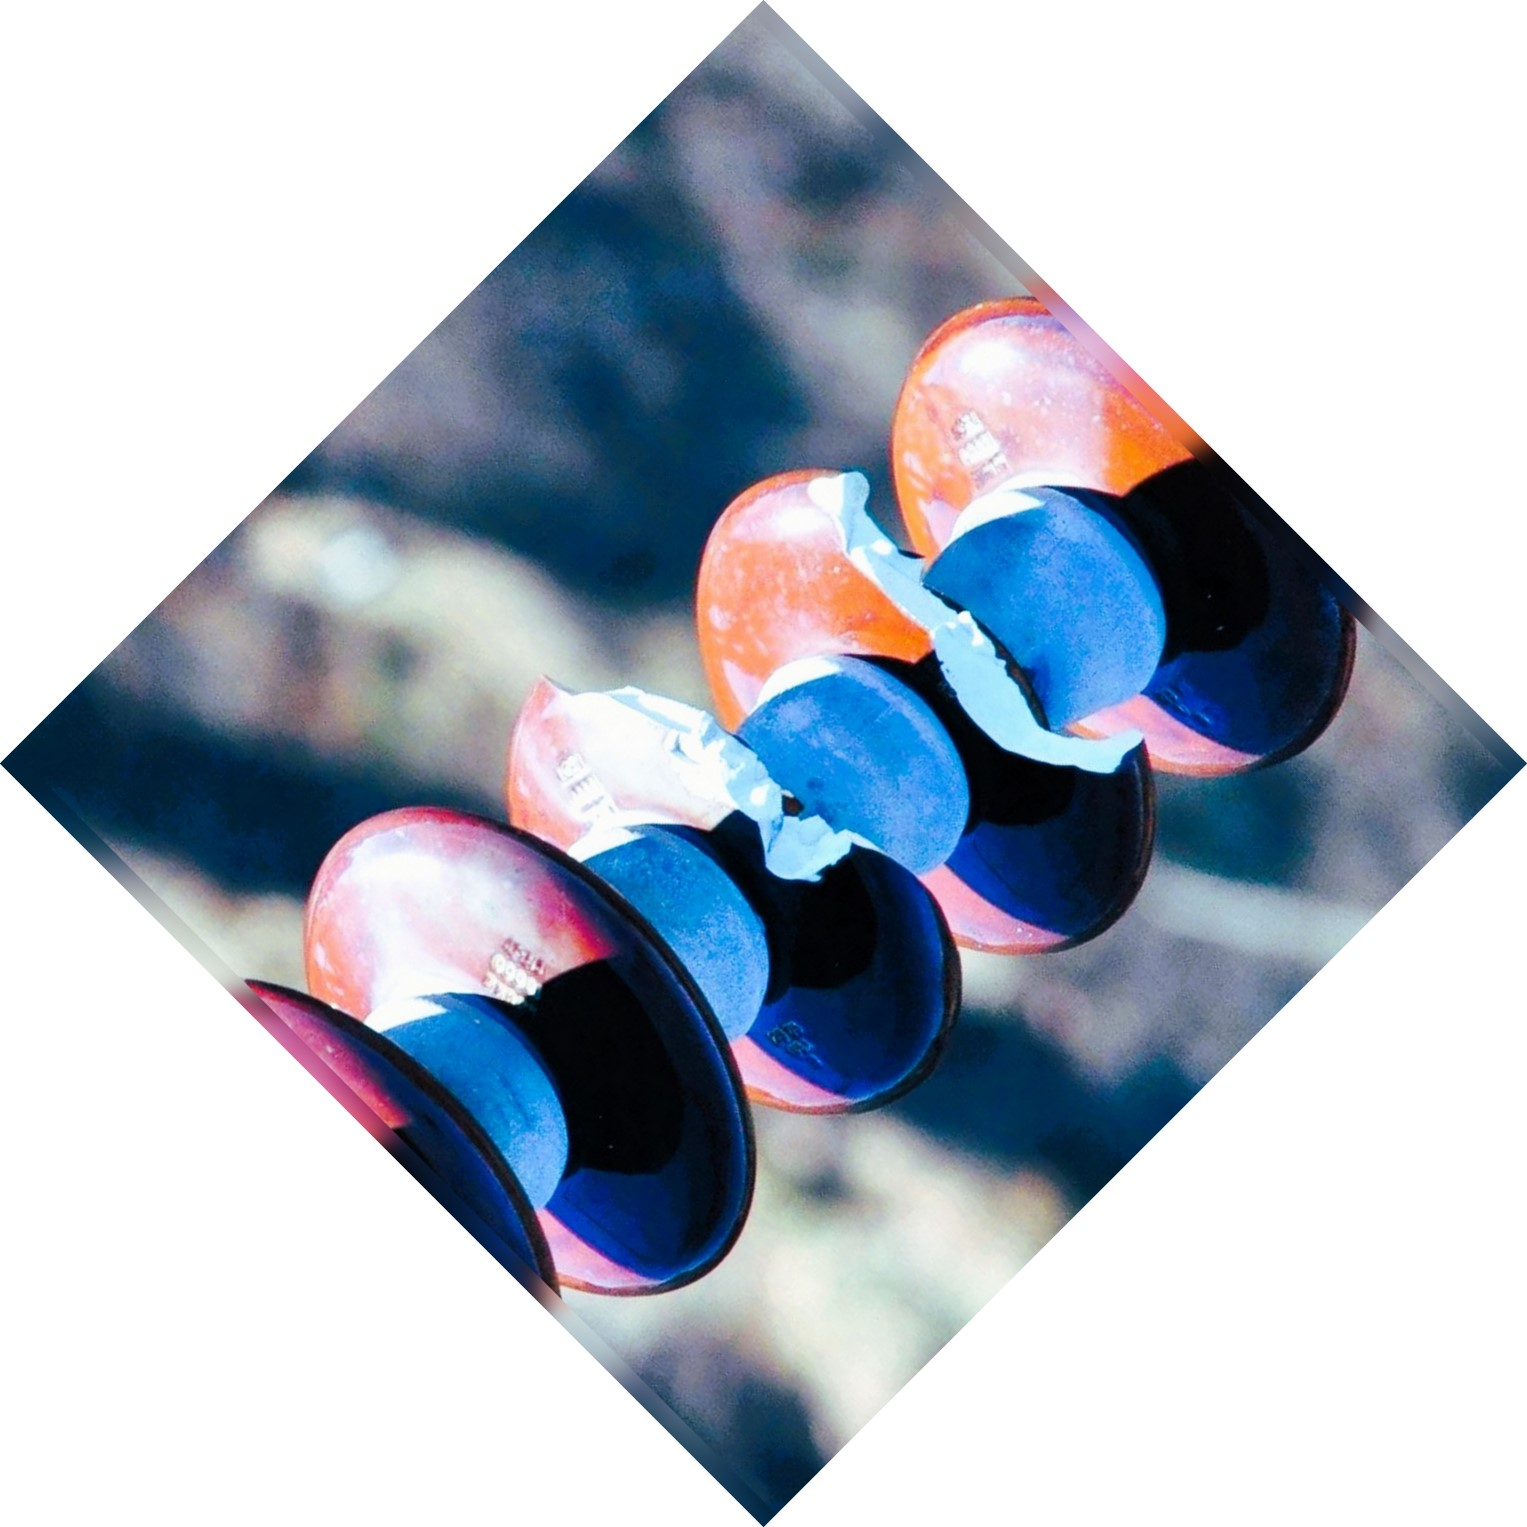insulator breakage: (496, 459, 1180, 1114)
